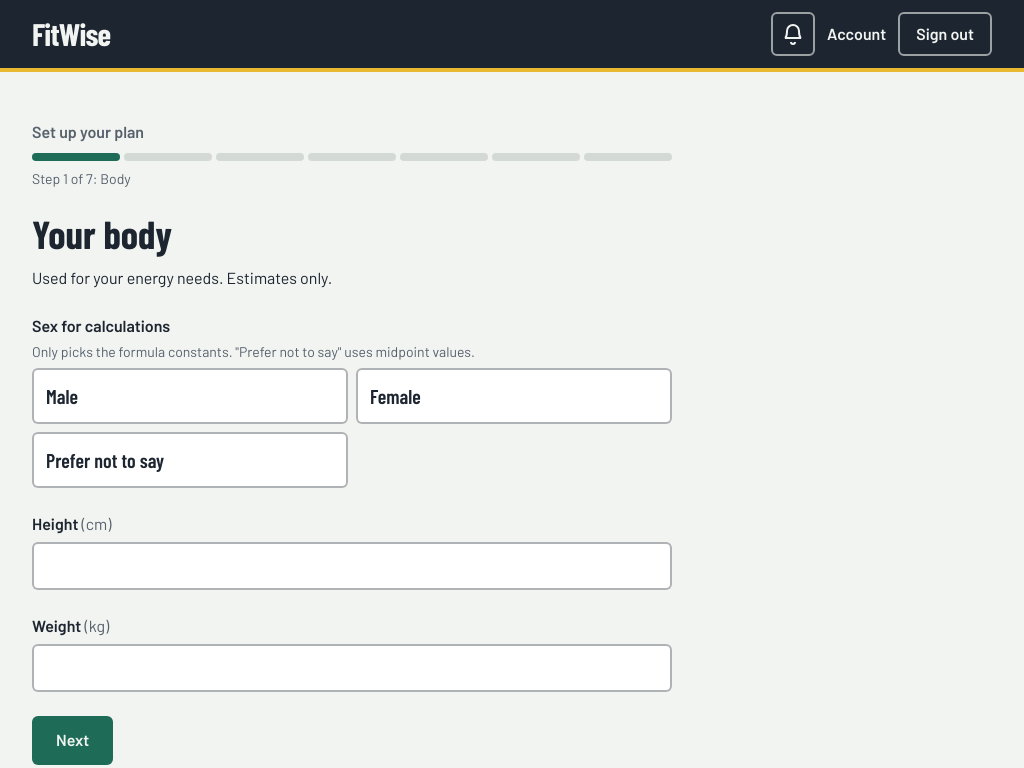
Test case: Onboarding wizard › asks a female for hips with the Navy method
Expected: the heading "Your body" is shown, [32,210,172,257]
Click the radio button labelled "Female" at (395, 396), box [356,368,672,424]
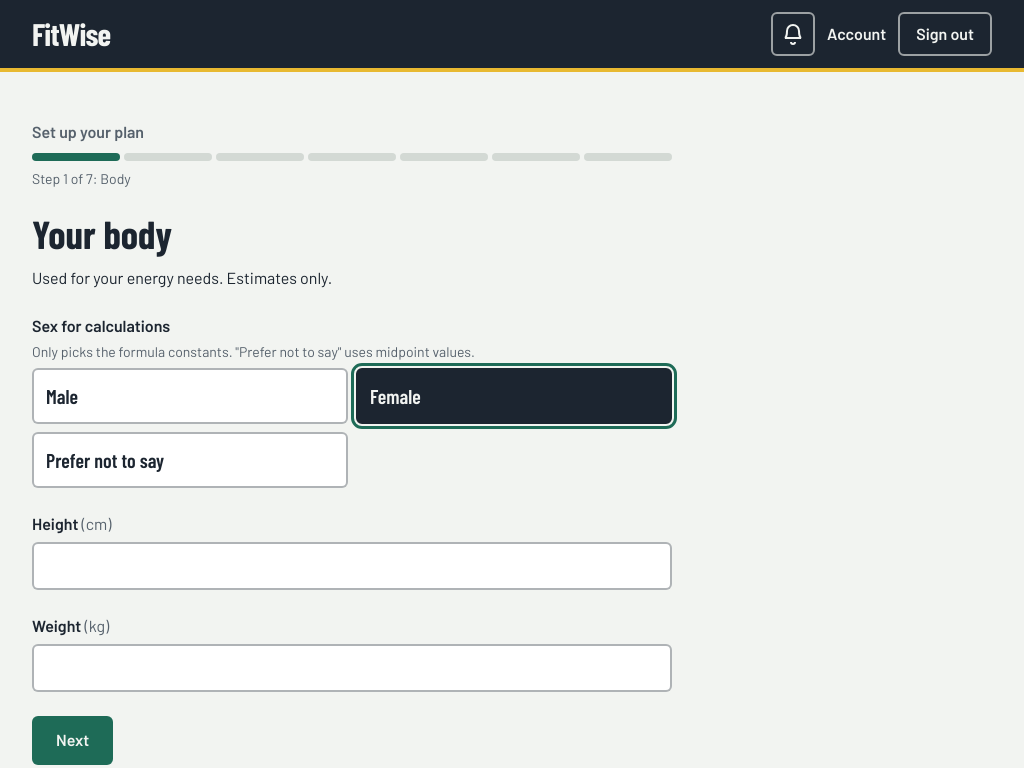
Type "165" into the field labelled "Height (cm)" at (352, 566), box [32,542,672,590]
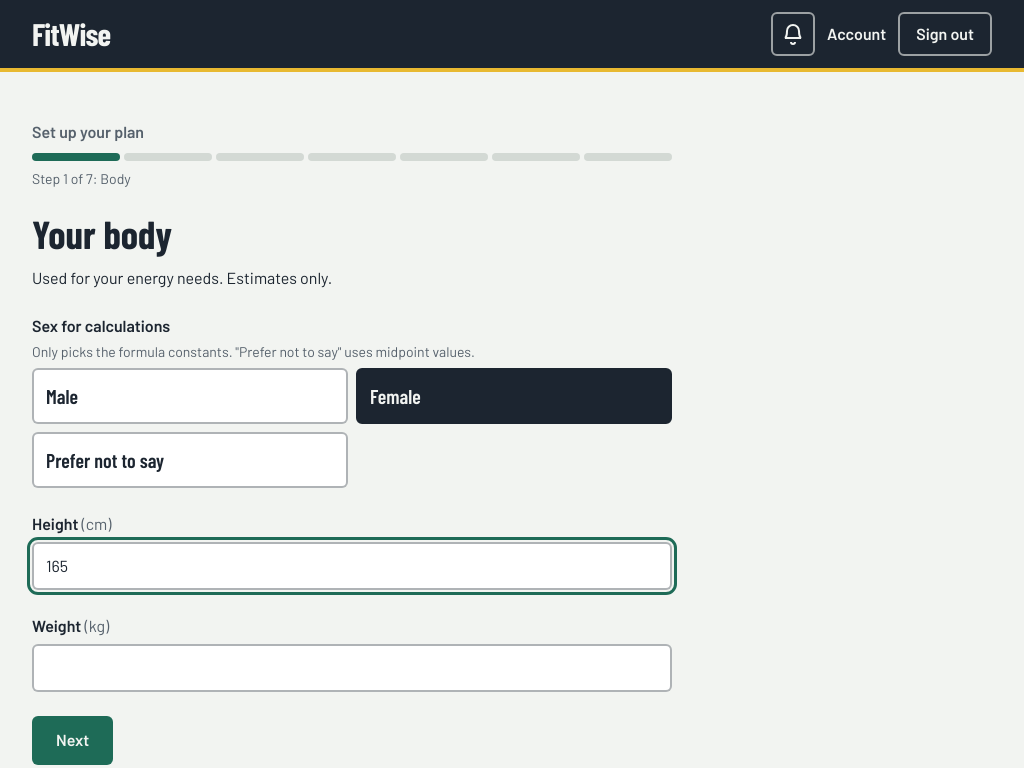
Type "60" into the field labelled "Weight (kg)" at (352, 668), box [32,644,672,692]
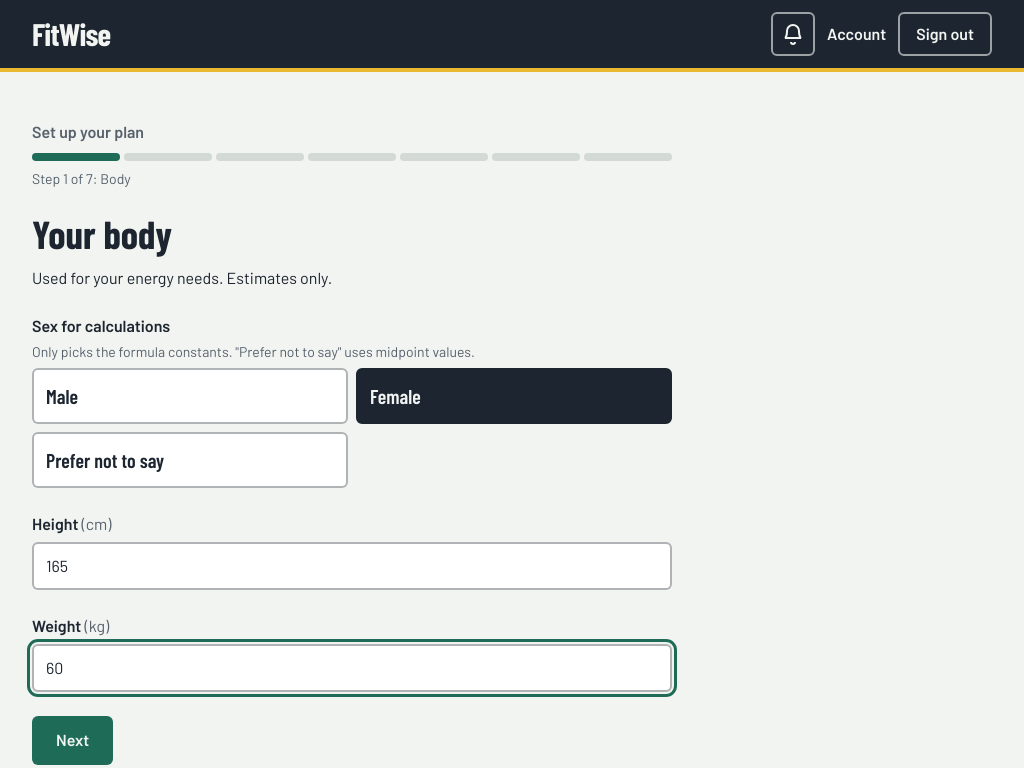
Click the button "Next" at (73, 741), box [32,716,113,765]
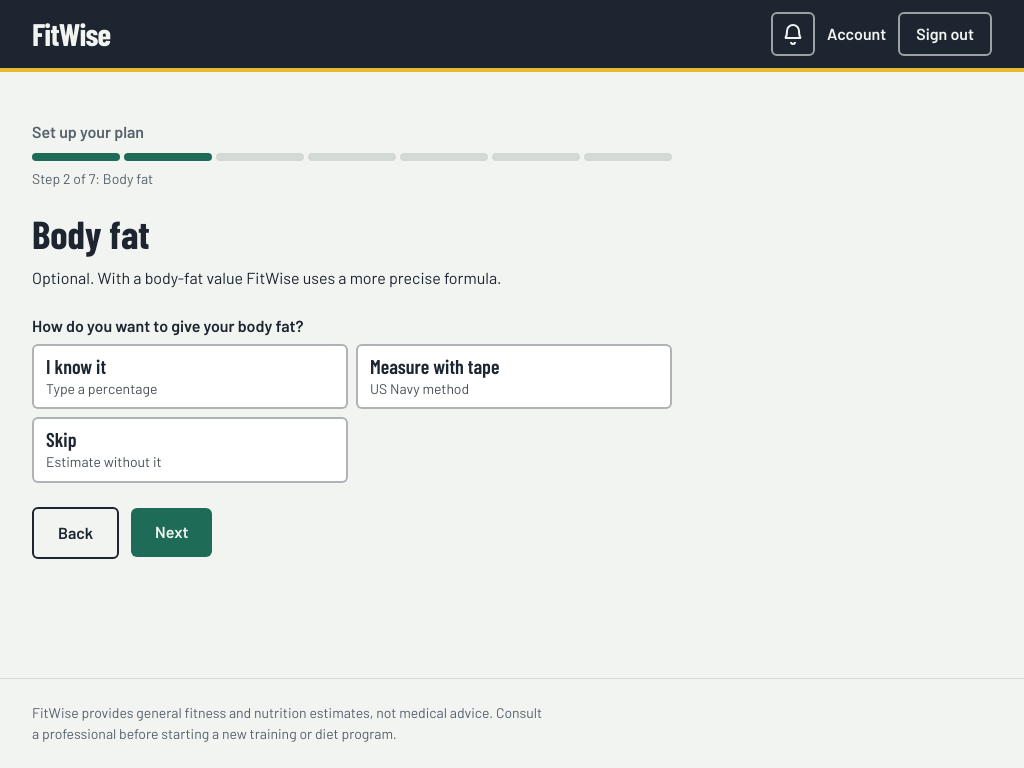
Click the radio button labelled "Measure with tape US Navy method" at (435, 366), box [356,344,672,409]
(page scrolled)
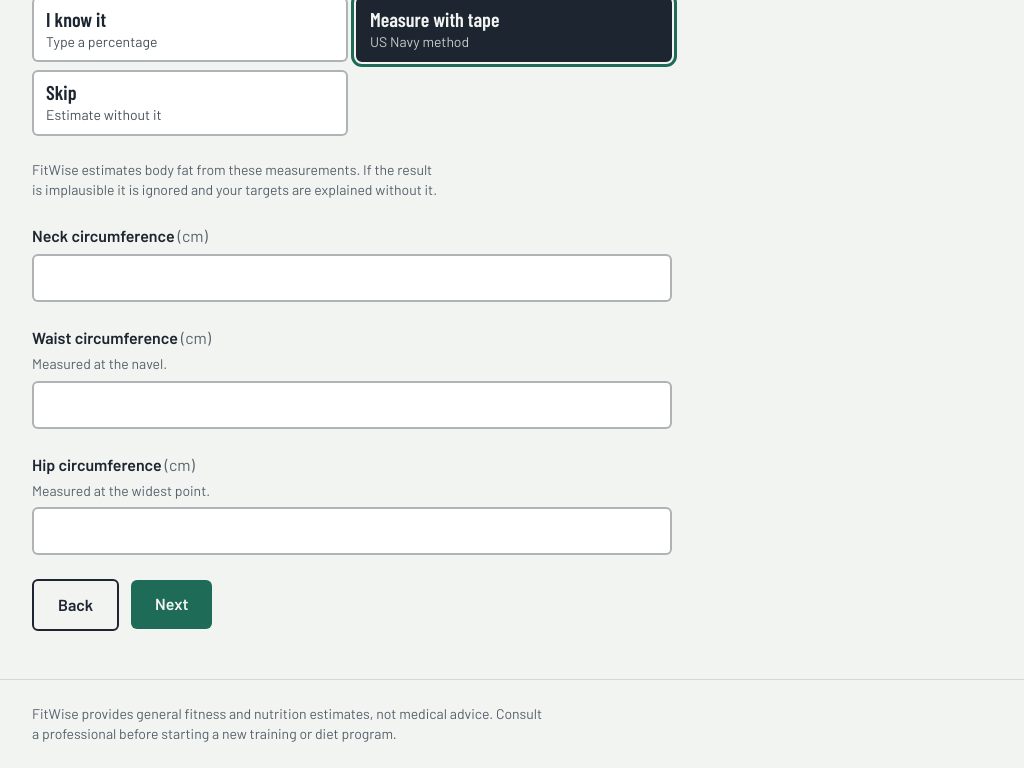
Expected: the field labelled "Hip circumference (cm)" is shown, [32,507,672,555]
